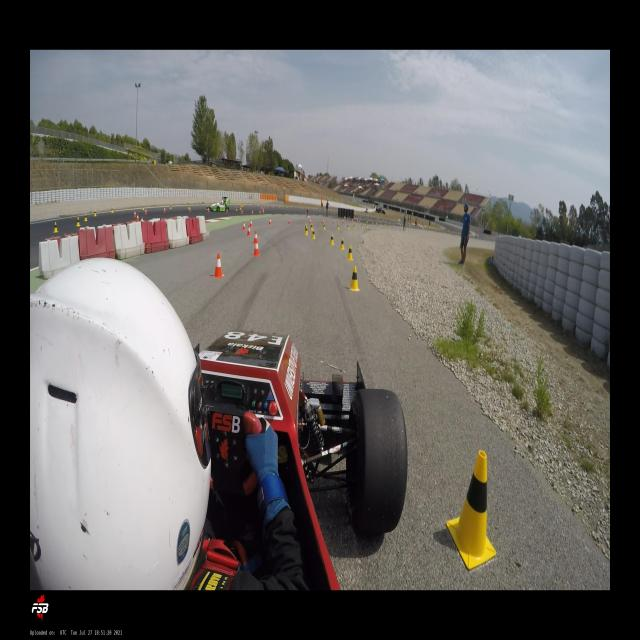orange_cone: (212, 253, 225, 279), (252, 239, 260, 257), (253, 230, 259, 244), (246, 225, 252, 237), (249, 219, 253, 228), (242, 222, 246, 231), (136, 214, 140, 222), (133, 210, 137, 218), (268, 218, 272, 225), (308, 218, 312, 224), (144, 208, 147, 216), (207, 207, 210, 214), (163, 206, 166, 213), (332, 219, 335, 225), (288, 218, 291, 224), (322, 218, 325, 224), (226, 208, 228, 214), (189, 206, 191, 212), (252, 210, 254, 215), (258, 210, 260, 214), (241, 210, 243, 213), (262, 210, 264, 213)
yellow_cone: (446, 450, 497, 568), (349, 266, 360, 290), (346, 244, 353, 260), (339, 237, 345, 250), (53, 221, 59, 233), (304, 224, 309, 236), (311, 228, 316, 239), (76, 216, 81, 227), (330, 233, 334, 246), (84, 213, 88, 222), (94, 209, 98, 217), (322, 223, 326, 230), (310, 222, 313, 231), (111, 206, 114, 214), (235, 205, 238, 212), (346, 224, 349, 230), (336, 224, 339, 230), (169, 204, 172, 210), (353, 224, 356, 229), (188, 205, 190, 212), (304, 224, 306, 231), (142, 205, 144, 211), (361, 223, 363, 229), (366, 222, 368, 228)
